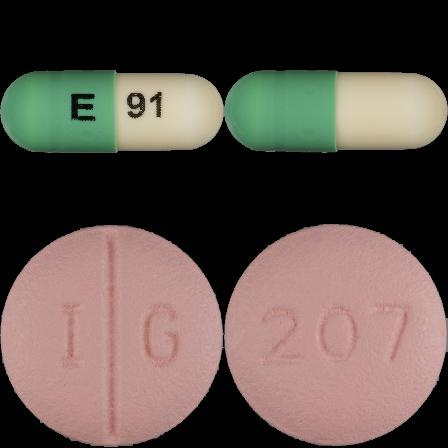64205-193: (0, 0, 224, 224)
